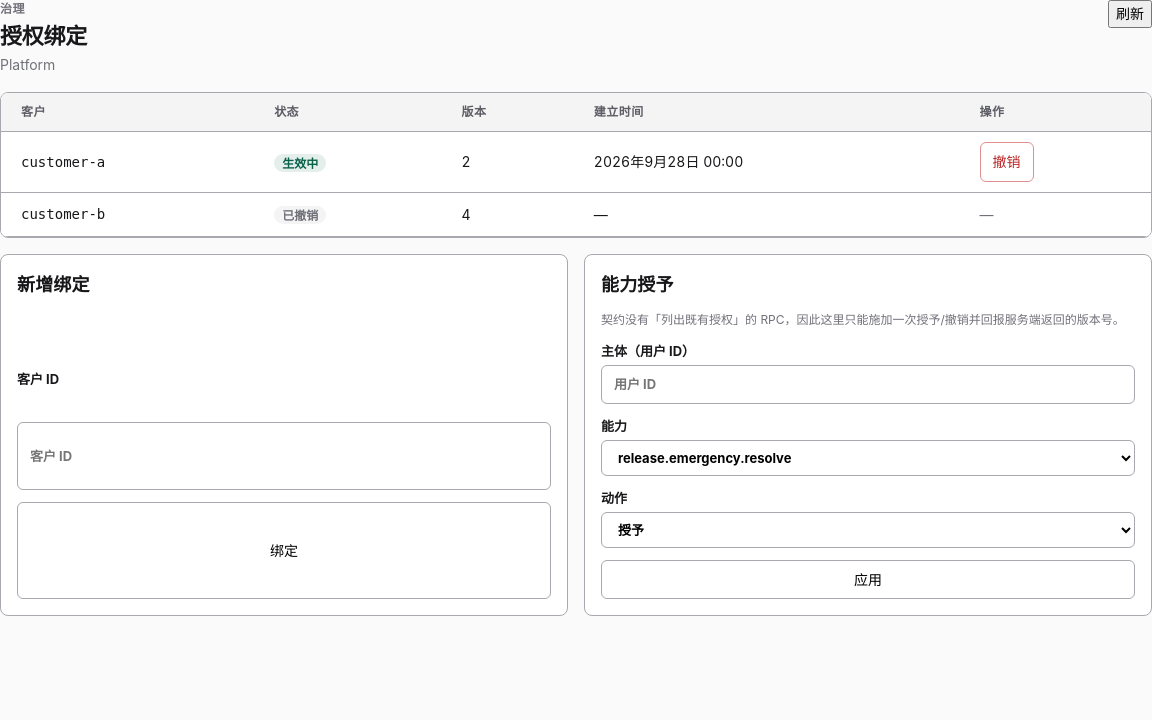
Test case: BindingsPage characterization › keeps the confirmation open on Escape while the revoke is in flight
Click the button "撤销": (1006, 162) x1=980 y1=142 x2=1034 y2=182
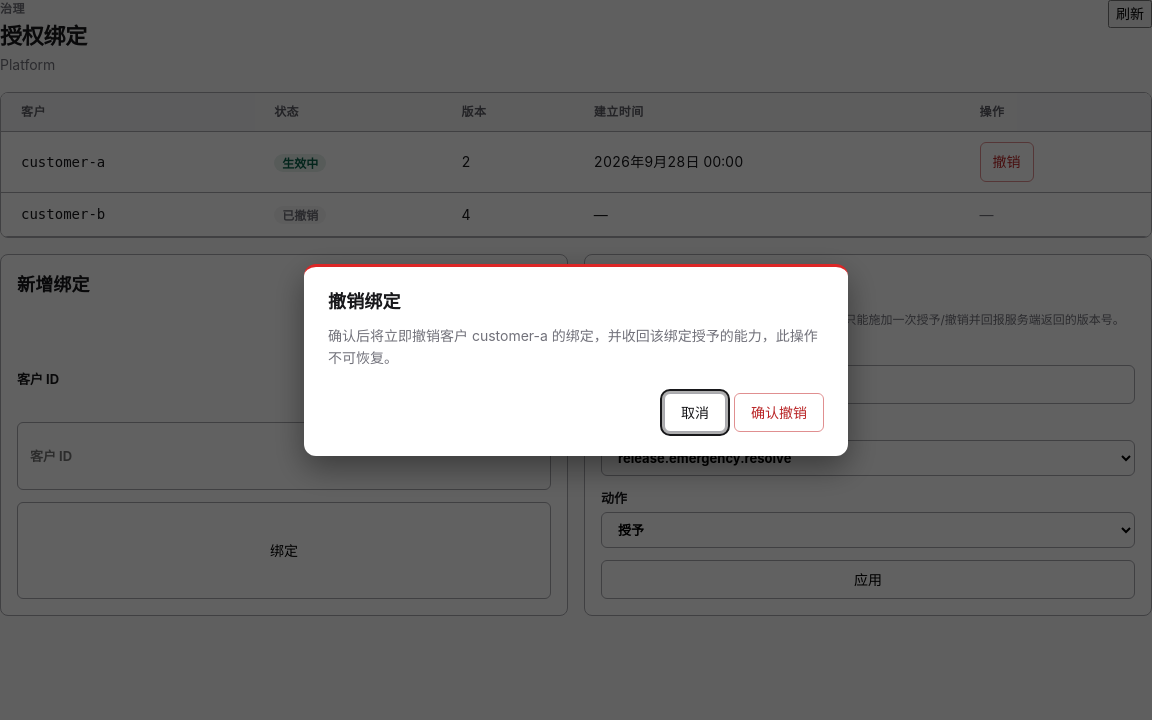
Click the button "确认撤销": (779, 412) x1=734 y1=393 x2=824 y2=432
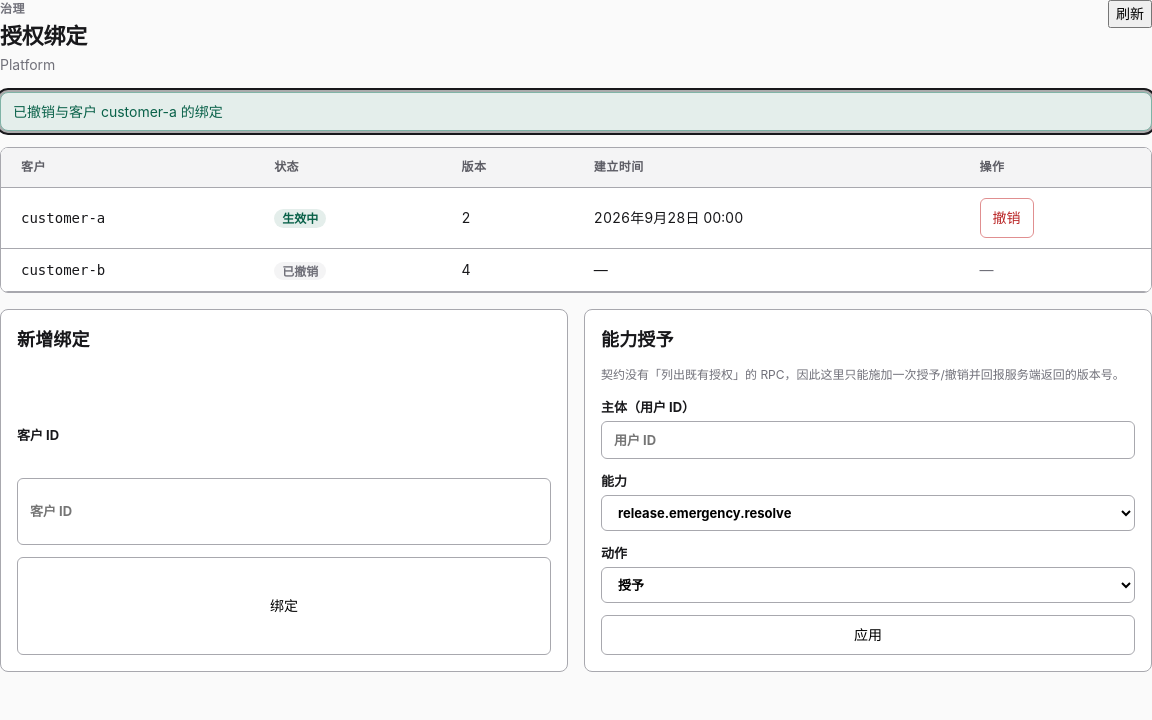
Expected: the dialog is gone
